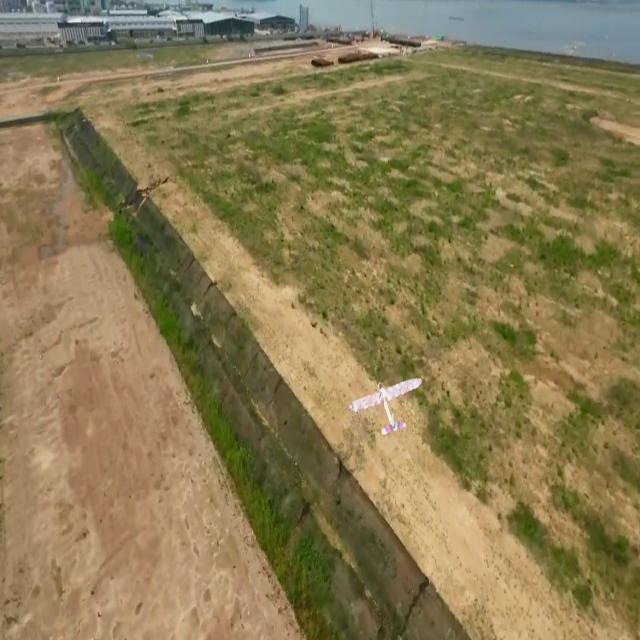iha: (375, 398, 401, 415)
